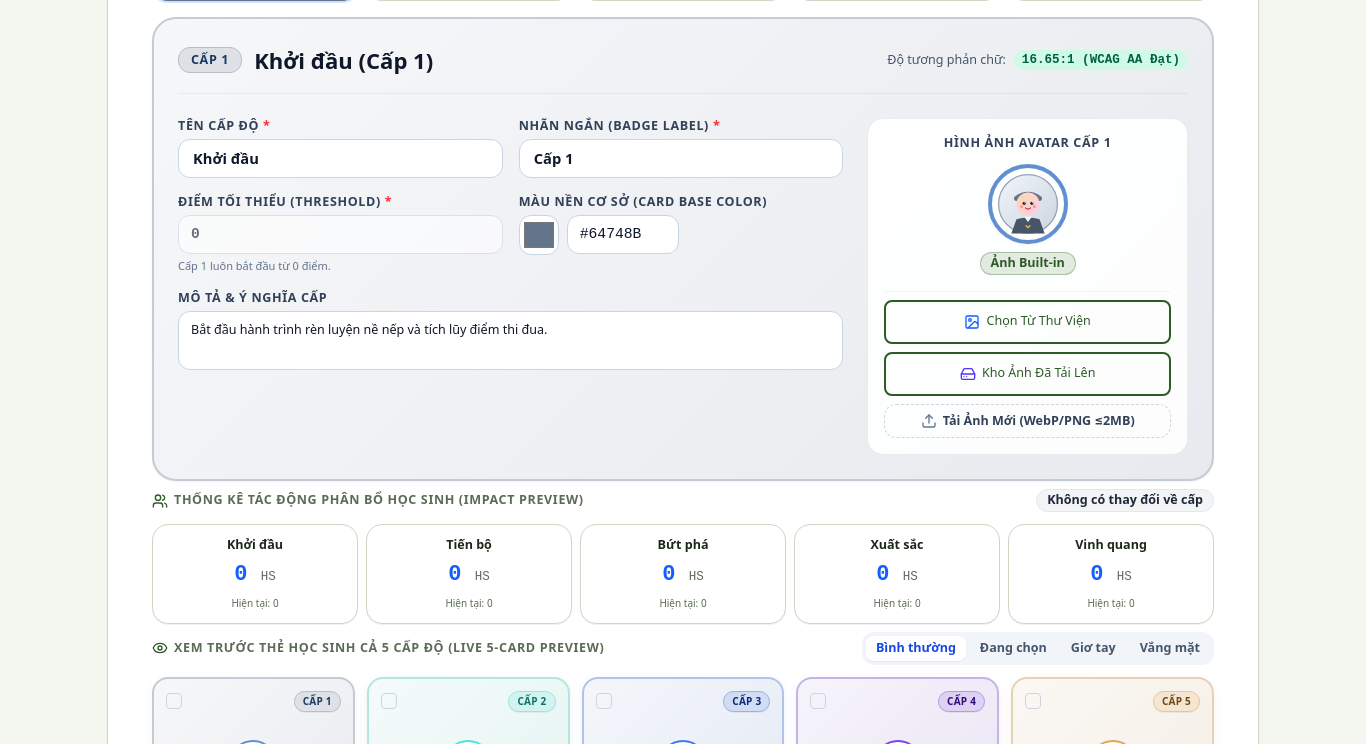
SettingsPage 5-Level Avatar & Asset Reuse Tests (FEAT-AVATAR-004) › 2. Opens SavedAvatarAssetsModal when clicking Kho Ảnh Đã Tải Lên
(page scrolled)
Expected: the text "Kho Ảnh Đã Tải Lên" is shown, [982,365,1095,382]
Click the button "Kho Ảnh Đã Tải Lên": coordinates (1028, 374) [884,352,1171,396]
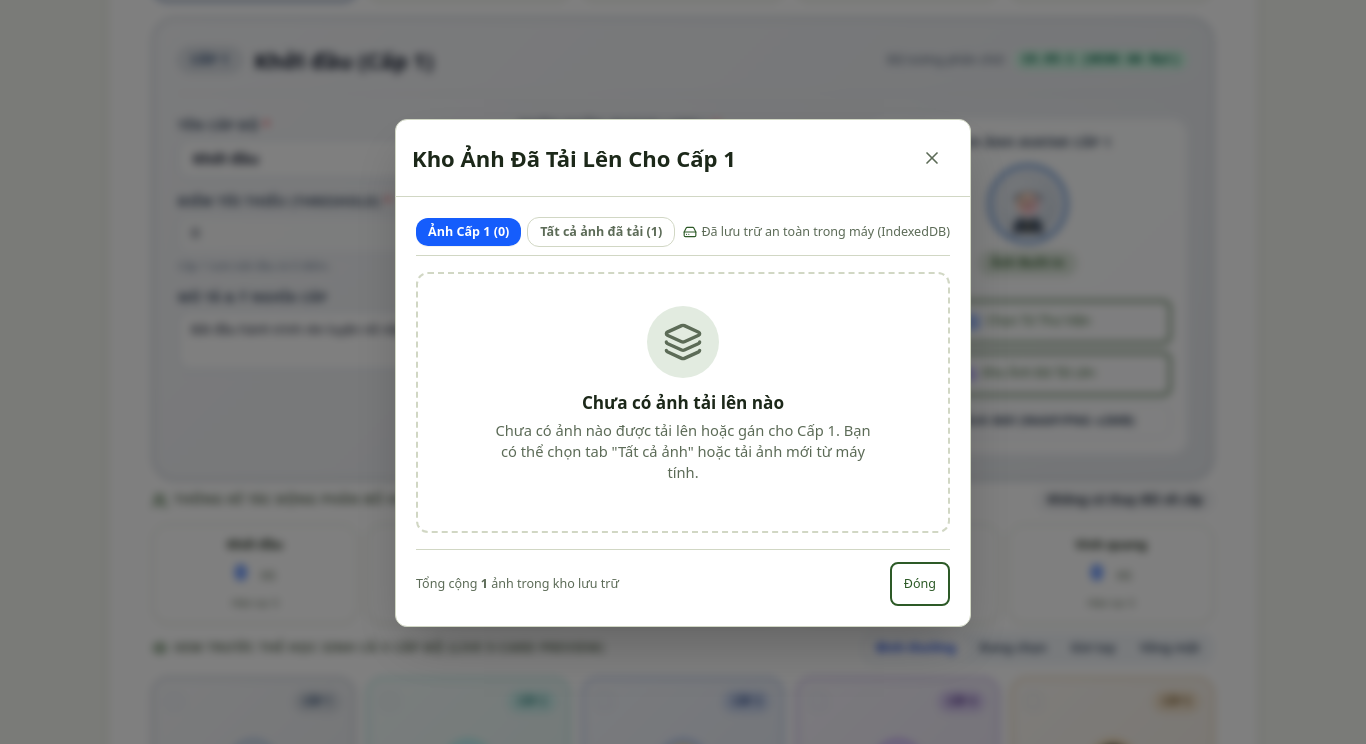
Result: the heading "Kho Ảnh Đã Tải Lên Cho Cấp 1" is shown at [412,141,736,175]
